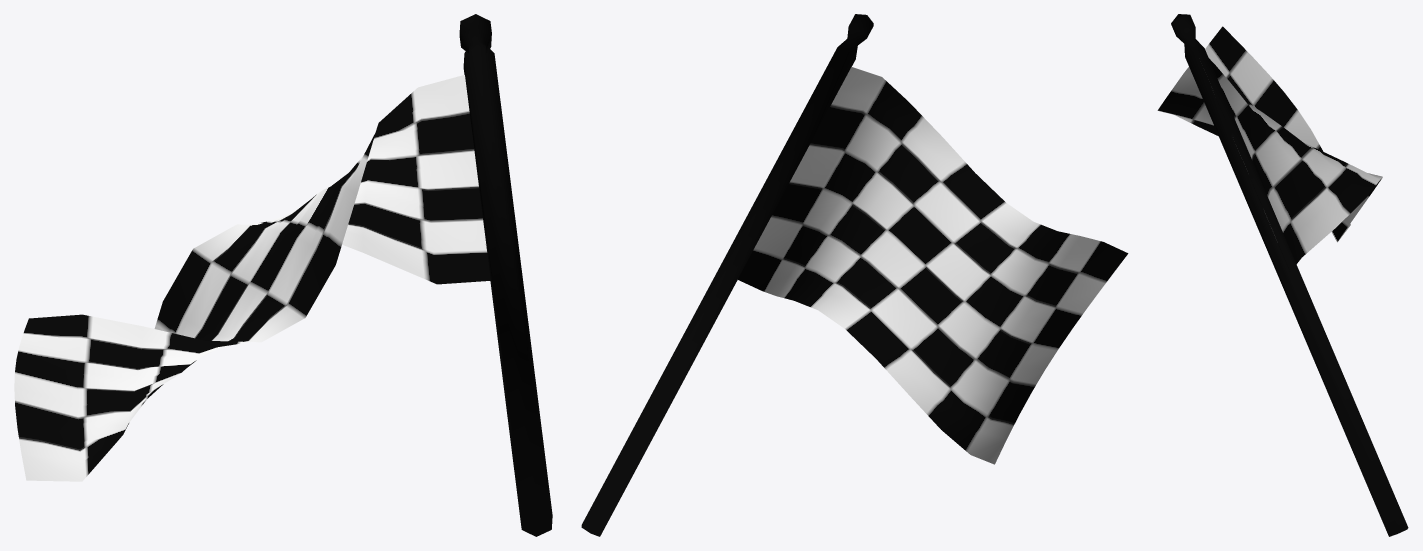
File: icon.ico.obj
3 views of the same model, side by side, from view 1: azimuth 30°, elevation 25°; view 2: azimuth 150°, elevation 25°; view 3: azimuth 270°, elevation 25° (orthographic). The views are drawn at different scales.
Size of the model in its own units: 3.26 by 3.26 by 1.65.
1 material, 1 textured.
